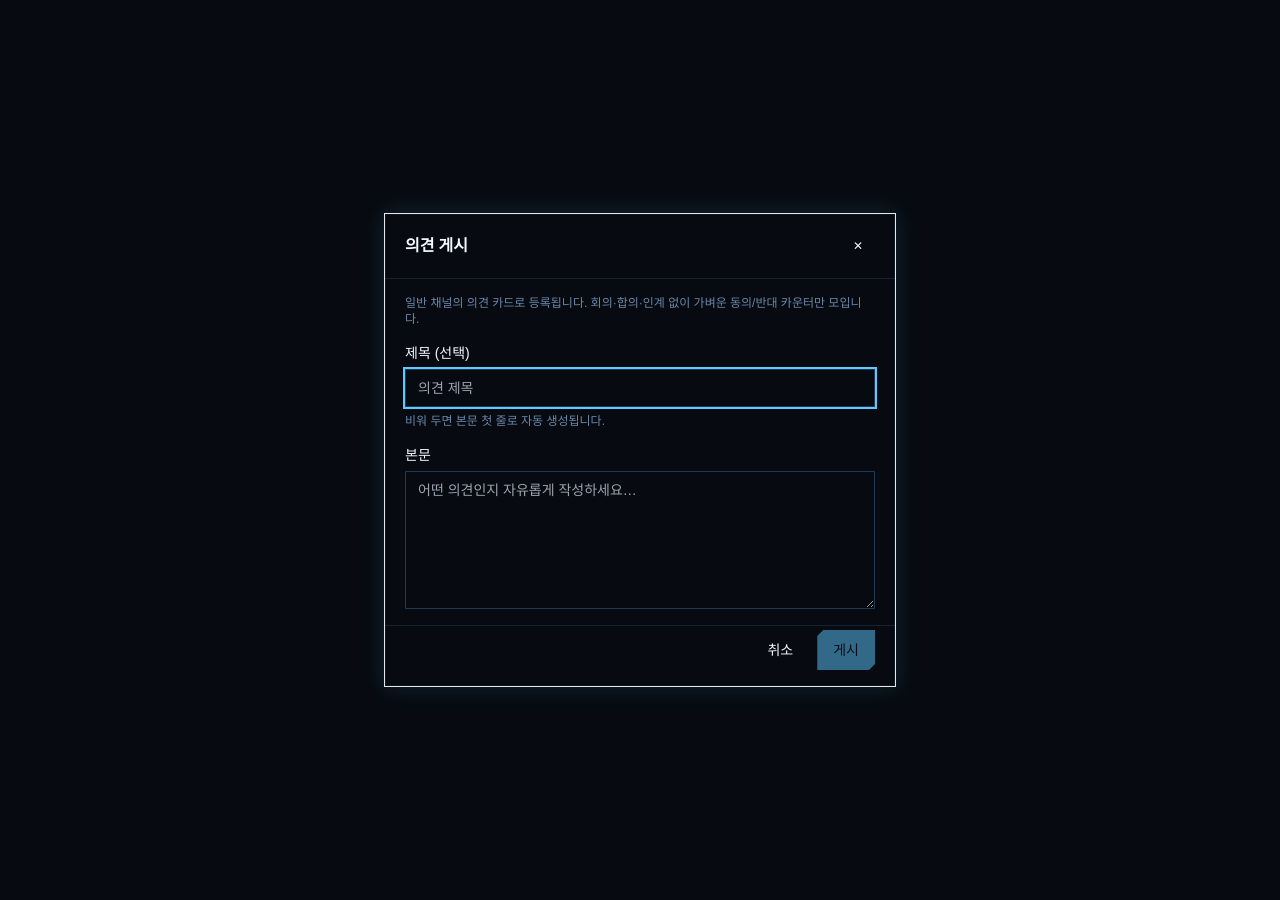
Test: PostOpinionModal — submit error › PostFromGeneralValidationError → validation 에러 메시지 surface
The image size is (1280, 900).
Type "본문" into the text box with test id "post-opinion-content". click: (640, 540)
box: [405,471,875,609]
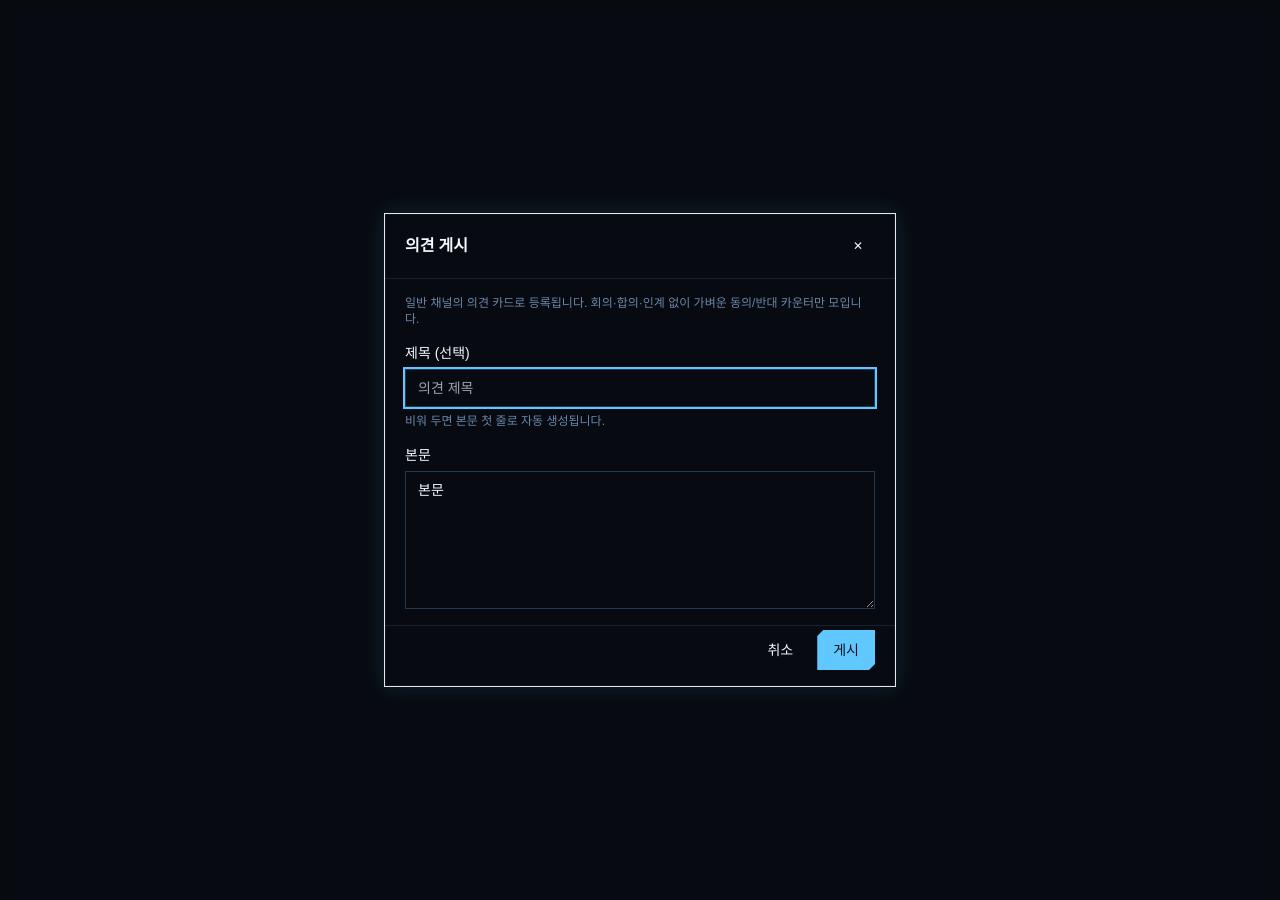
Click the button with test id "post-opinion-submit". click: click(846, 650)
box: [817,630,875,670]
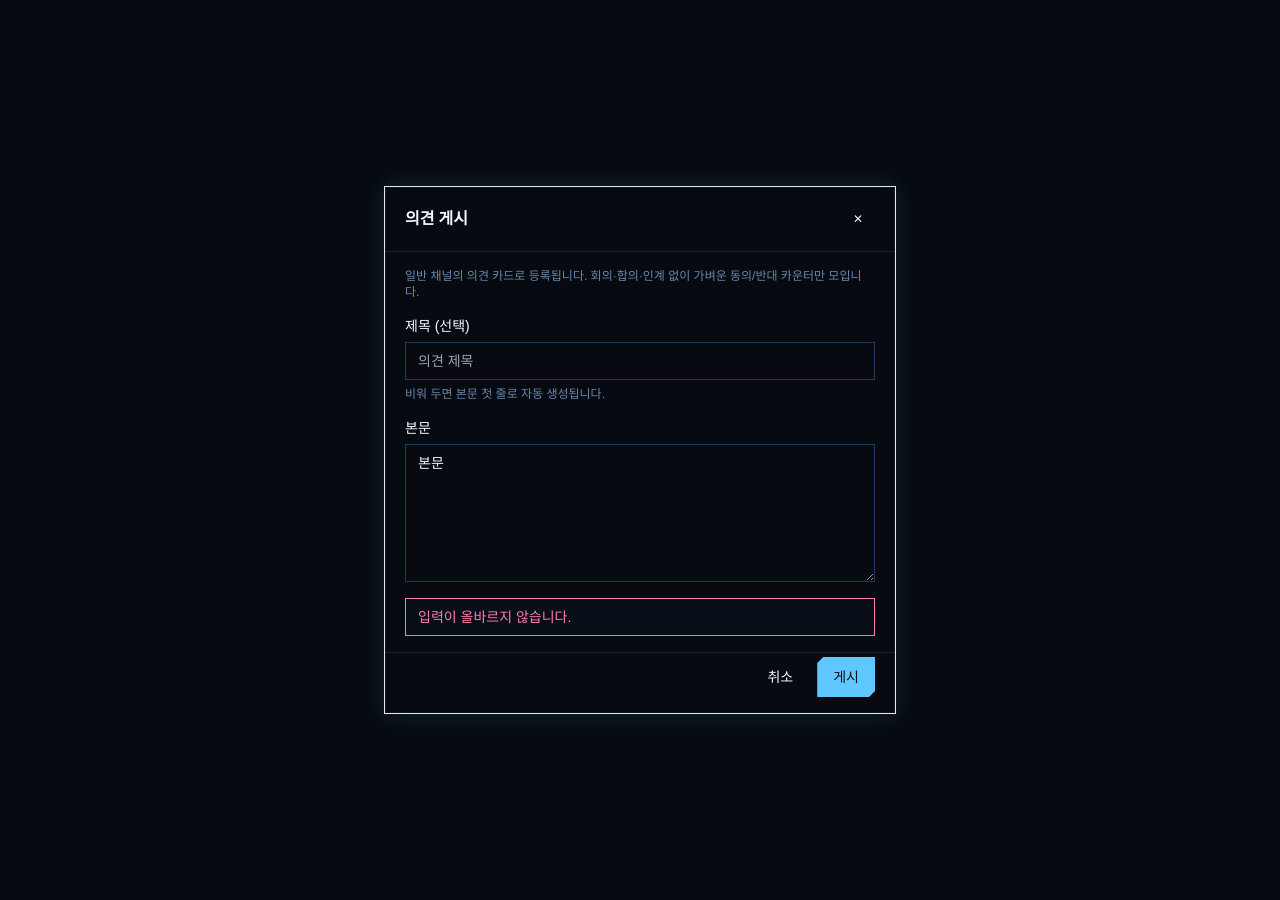
Result: the message with test id "post-opinion-error" shows "입력" at [405,598,875,636]
